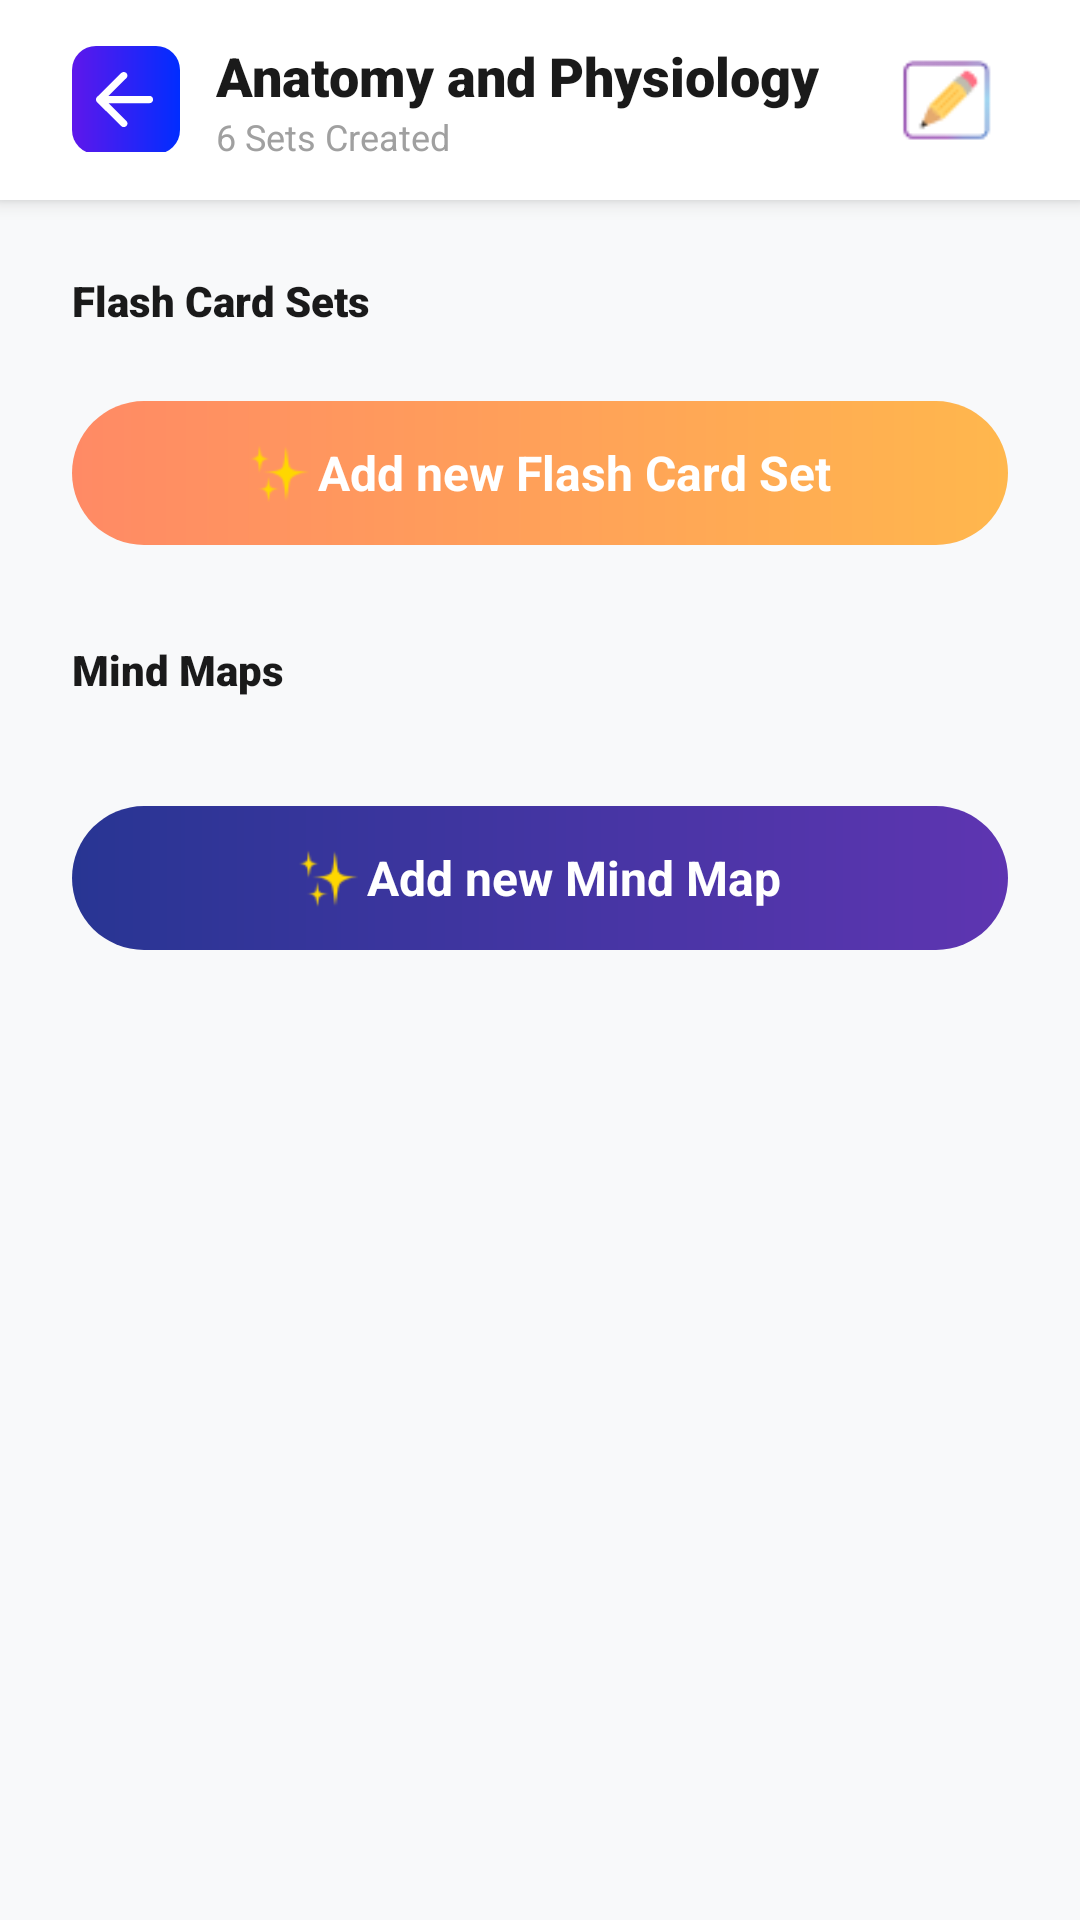

Where to tap for icons on this 1080×1920 app screen, as [x,y]:
back arrow: [126,99]
pencil: [946,100]
sparkles: [279,474], [328,879]
